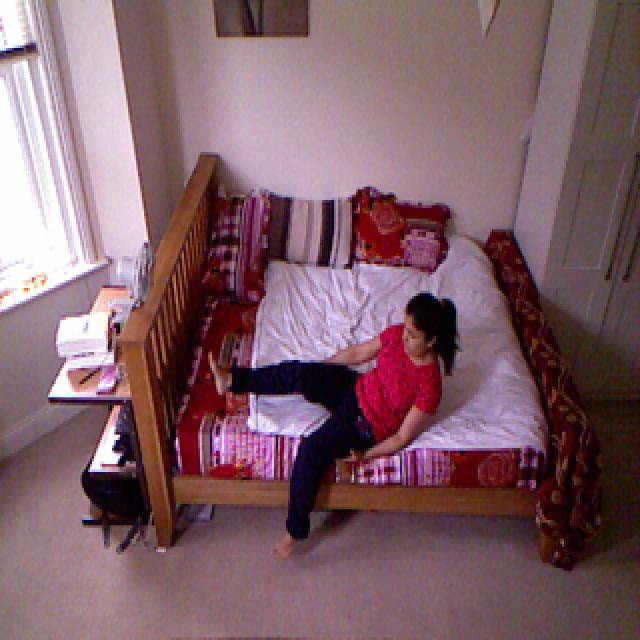bending: (202, 288, 468, 554)
